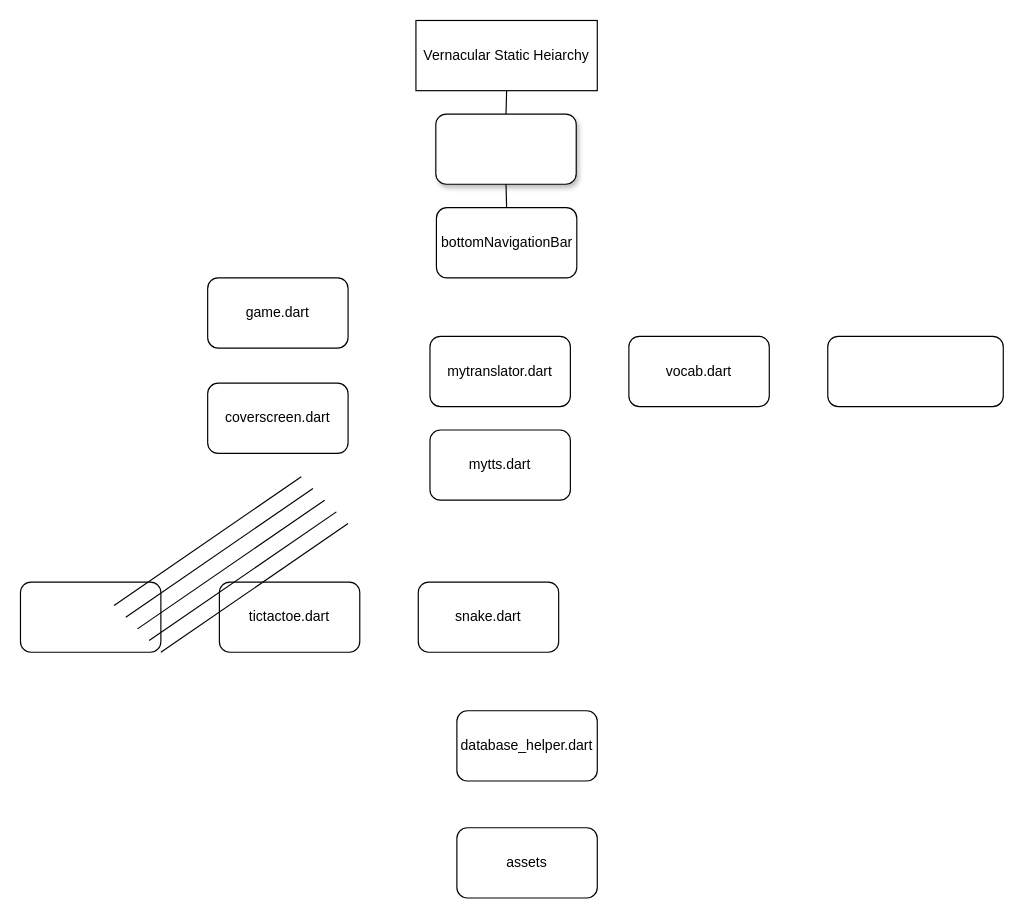
The diagram is 1024 pixels wide and 918 high, and some of its shapes have lost their labels. The centre of each missing label's shape, as x and y in pixels:
"basket.dart" goes at point (90, 616).
"database_userconfig.dart" goes at point (915, 371).
"main.dart" goes at point (506, 150).
